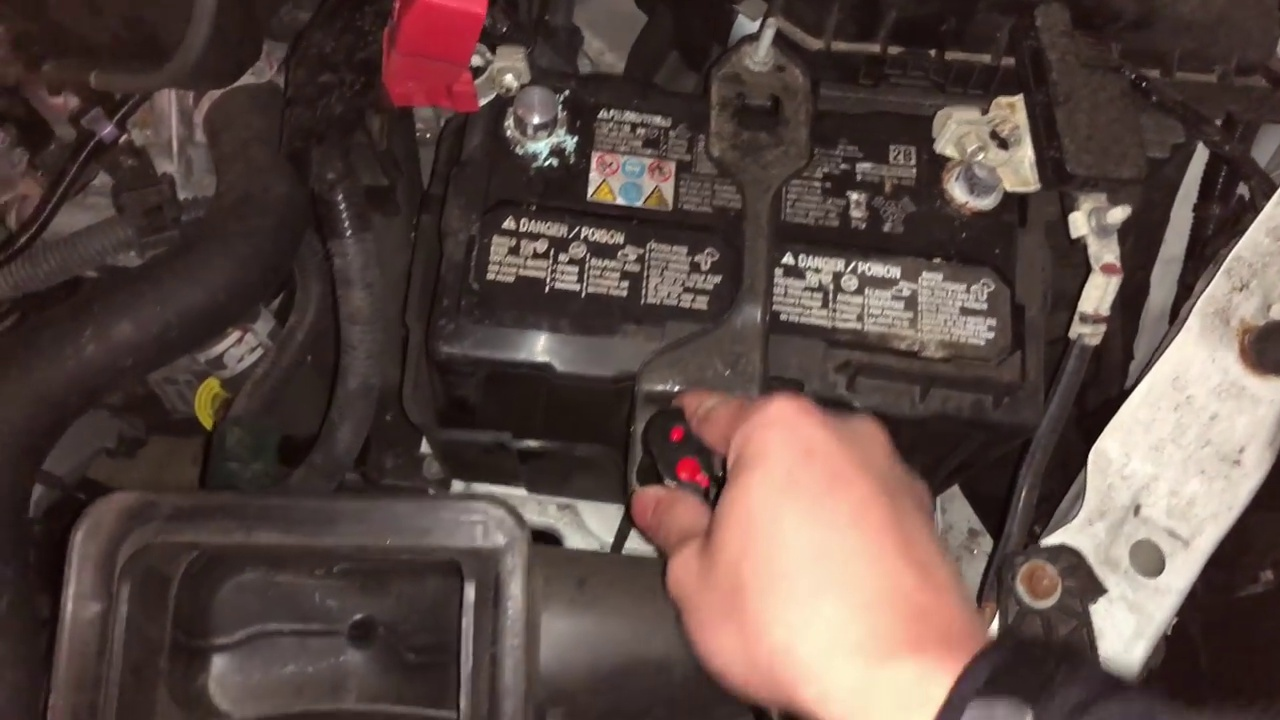battery: (452, 52, 1046, 409)
neg_disconnected: (896, 83, 1058, 224)
pos_disconnected: (401, 4, 577, 160)
